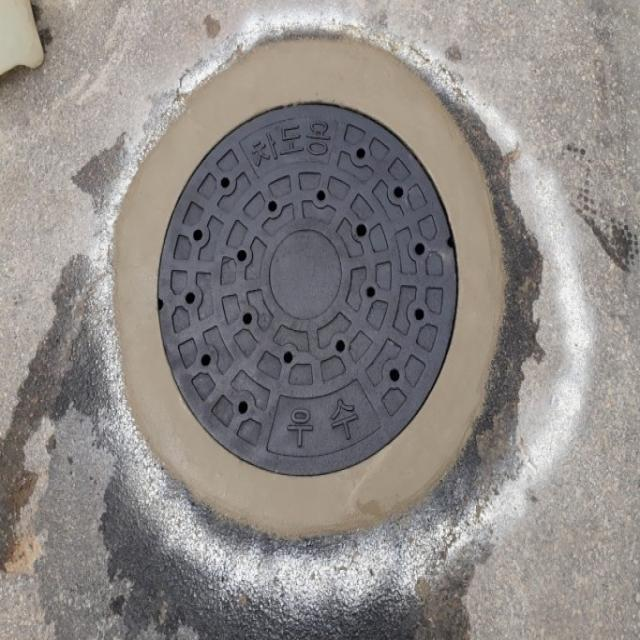manhole: (115, 39, 505, 538)
